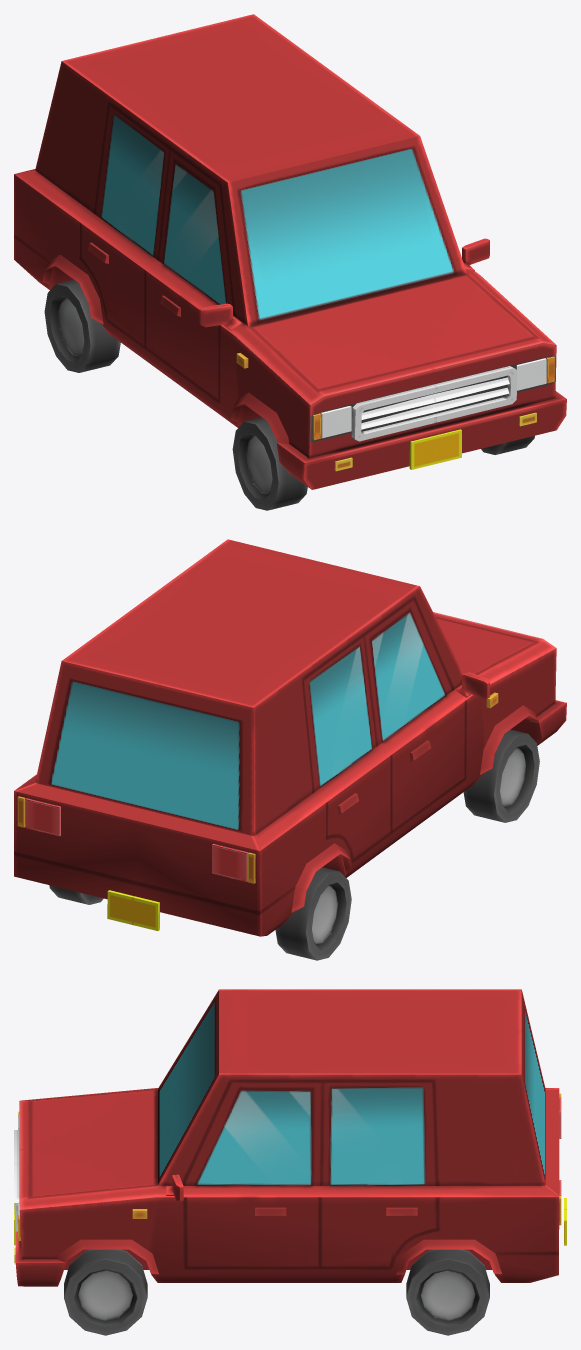
Rendered from car red.fbx.
The picture shows the model from 3 angles, top to bottom: view 1: azimuth 30°, elevation 25°; view 2: azimuth 150°, elevation 25°; view 3: azimuth 270°, elevation 25°; orthographic projection. The views are drawn at different scales.
Visible parts, largest first — view 1: Car Red, WheerBR Car red, WheerFR Car red; view 2: Car Red, WheerBR Car red, WheerFR Car red; view 3: Car Red, WheerBL Car red, WheerFL Car red.
Part boxes in pixels (x1,y1,x2,y2): Car Red: (14, 14, 566, 489); WheerBR Car red: (44, 279, 120, 372); WheerFR Car red: (232, 417, 307, 510); Car Red: (14, 539, 566, 936); WheerBR Car red: (275, 867, 351, 960); WheerFR Car red: (463, 729, 539, 822); Car Red: (14, 989, 566, 1286); WheerBL Car red: (406, 1249, 489, 1335); WheerFL Car red: (64, 1249, 147, 1335).
Bounding box in the file's own units: 79.52 × 71.32 × 145.
